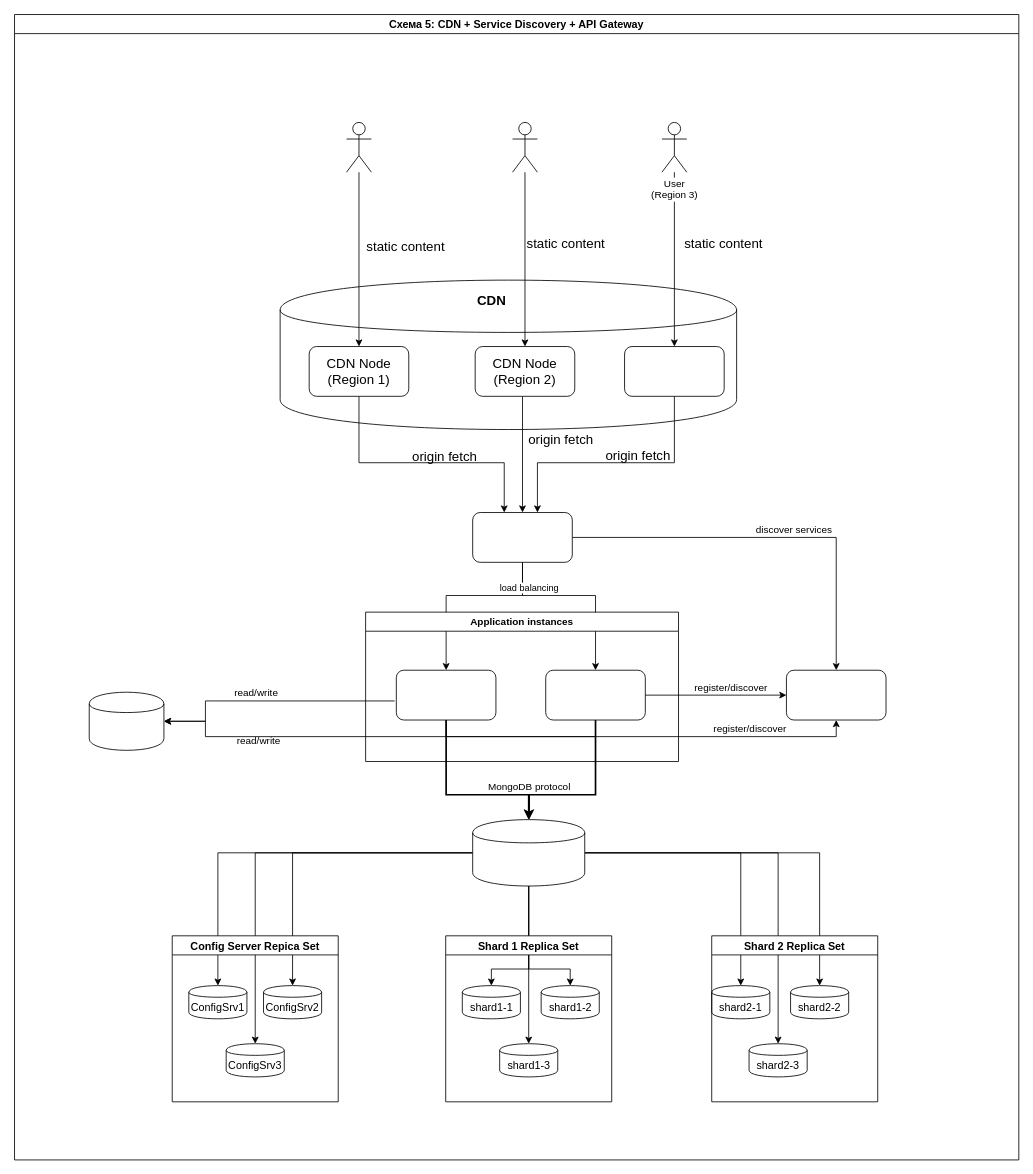
This 1033x1174 diagram has some shape labels left out. The centre of each missing label's shape, as x and y in pixels:
API Gateway (nginx): pixel 522 537
Cache "Redis": pixel 126 720
CDN Node (Region 3): pixel 674 371
Consul (Service Discovery): pixel 836 694
Mongos router: pixel 528 852
pymongo-api-1: pixel 445 694
pymongo-api-2: pixel 595 694
User (Region 1): pixel 358 147
User (Region 2): pixel 524 147
